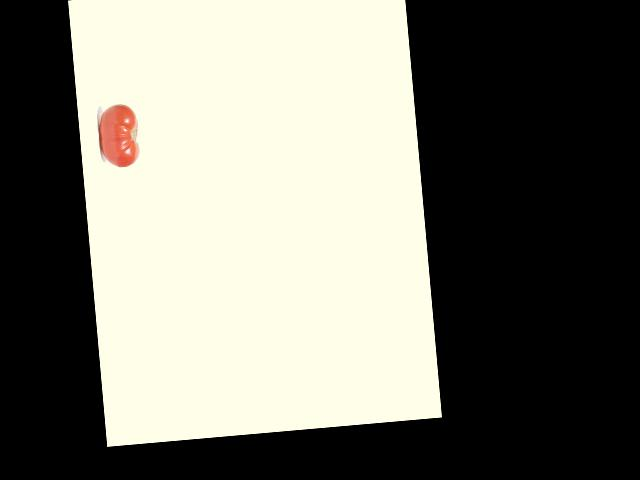tomato: (97, 103, 141, 169)
